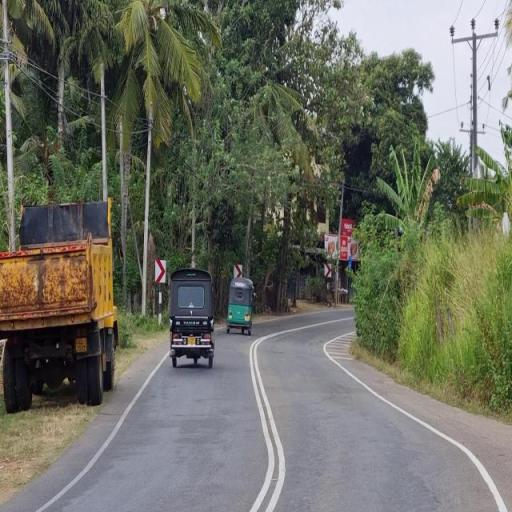double_white_line: (244, 329, 290, 512)
